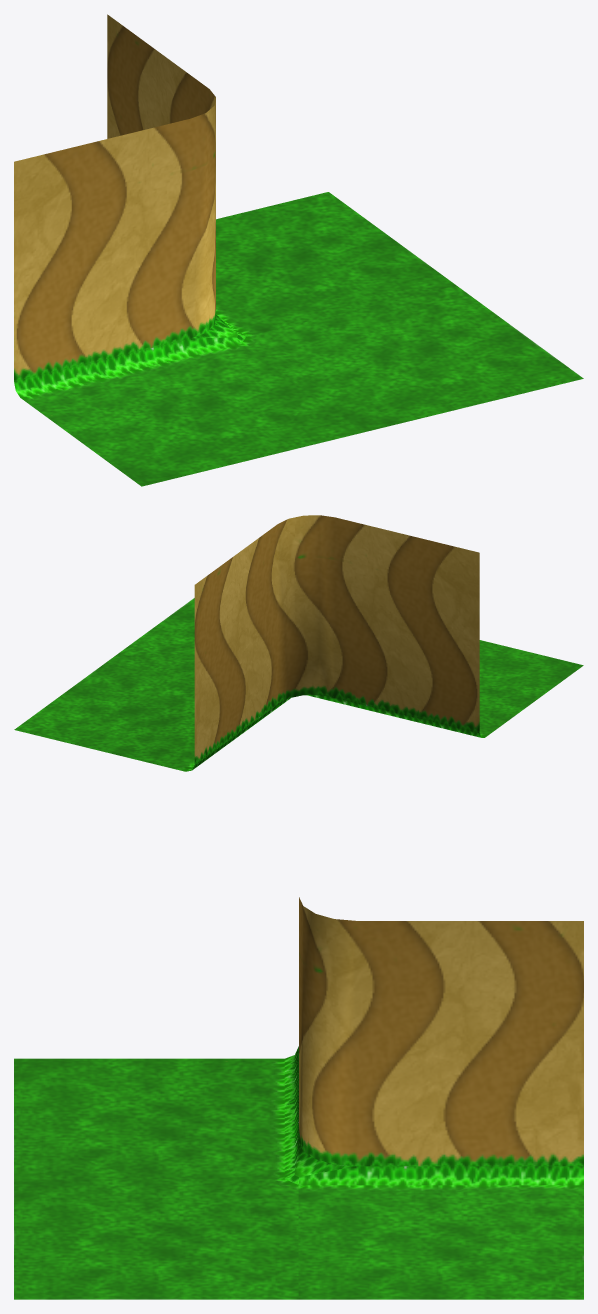
File: Corner_Bottom_Outwards.fbx
3 views of the same model, one above another, from view 1: azimuth 30°, elevation 25°; view 2: azimuth 150°, elevation 25°; view 3: azimuth 270°, elevation 25° (orthographic). The views are drawn at different scales.
Visible parts, largest first — view 1: Txt_Corner_Bottom_Outwards; view 2: Txt_Corner_Bottom_Outwards; view 3: Txt_Corner_Bottom_Outwards.
Boxes of the visible parts, left/top/right/bottom form: Txt_Corner_Bottom_Outwards: left=14, top=14, right=583, bottom=486; Txt_Corner_Bottom_Outwards: left=14, top=515, right=583, bottom=771; Txt_Corner_Bottom_Outwards: left=14, top=897, right=583, bottom=1299.
Bounding box in the file's own units: 400 × 200 × 400.
